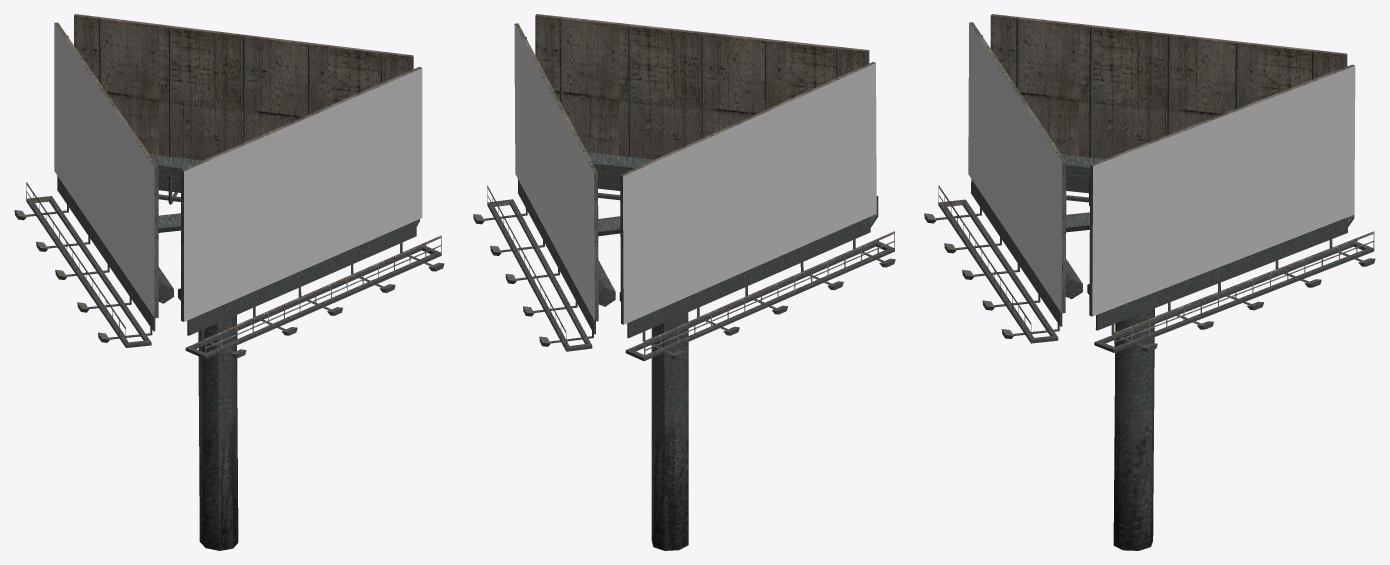
The model's file is BillboardA.FBX.
3 renders of one model, left to right at view 1: azimuth 30°, elevation 25°; view 2: azimuth 150°, elevation 25°; view 3: azimuth 270°, elevation 25°, orthographic.
Parts seen in each view (by area): view 1: BillboardA; view 2: BillboardA; view 3: BillboardA.
Part boxes in pixels (<box>): BillboardA: <box>14,14,444,550</box>; BillboardA: <box>473,14,895,550</box>; BillboardA: <box>924,14,1375,550</box>.
Size of the model in its own units: 651 by 697 by 790.
